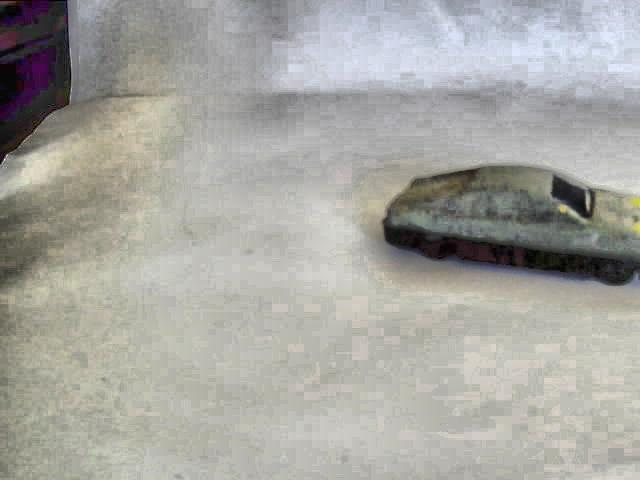normal_car: (380, 160, 640, 286)
